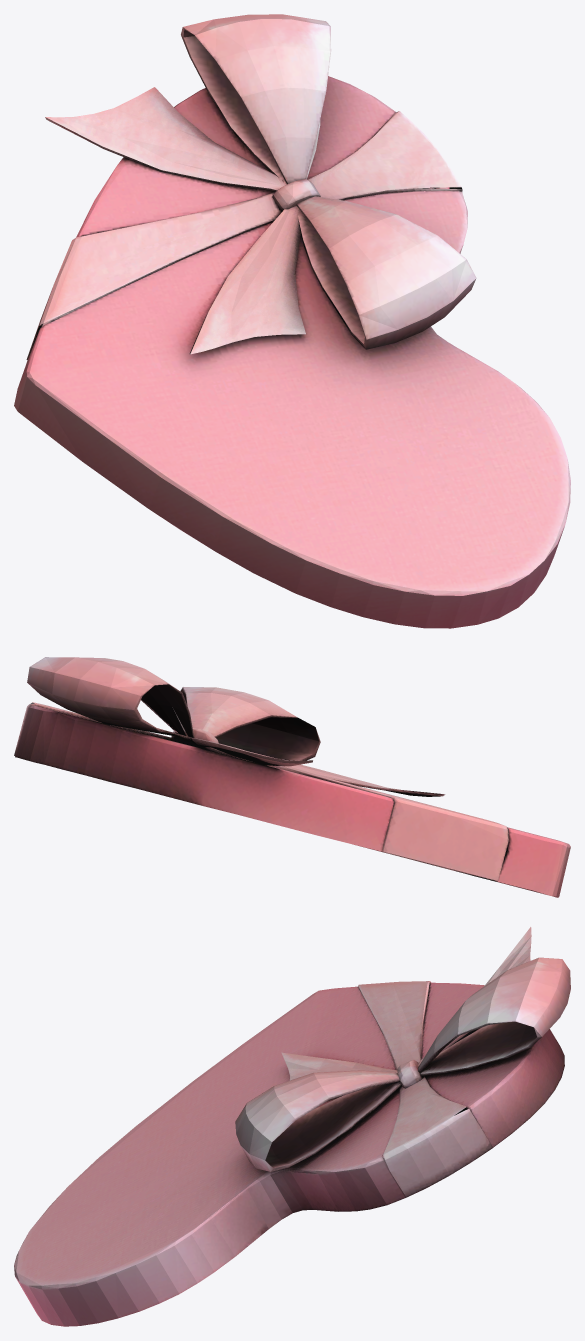
Rendered from cover.obj.
The picture shows the model from 3 angles, top to bottom: view 1: azimuth 30°, elevation 25°; view 2: azimuth 150°, elevation 25°; view 3: azimuth 270°, elevation 25°; orthographic projection. The views are drawn at different scales.
Visible parts, largest first — view 1: dynamic; view 2: dynamic; view 3: dynamic.
Boxes of the visible parts, bbox=[...] form: dynamic: bbox=[14, 14, 570, 628]; dynamic: bbox=[14, 657, 570, 897]; dynamic: bbox=[14, 927, 570, 1326].
Bounding box in the file's own units: 76.63 × 60.42 × 86.86.
1 material, 1 textured.
